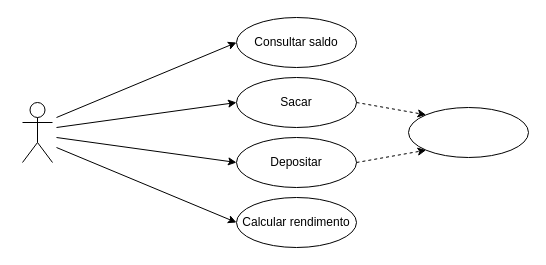
The diagram is 546 pixels wide and 265 high, and some of its shapes have lost their labels. Each missing label, with the centre of its shape:
"Guardar hora" goes at point (468, 132).
"Pessoa" goes at point (37, 132).
